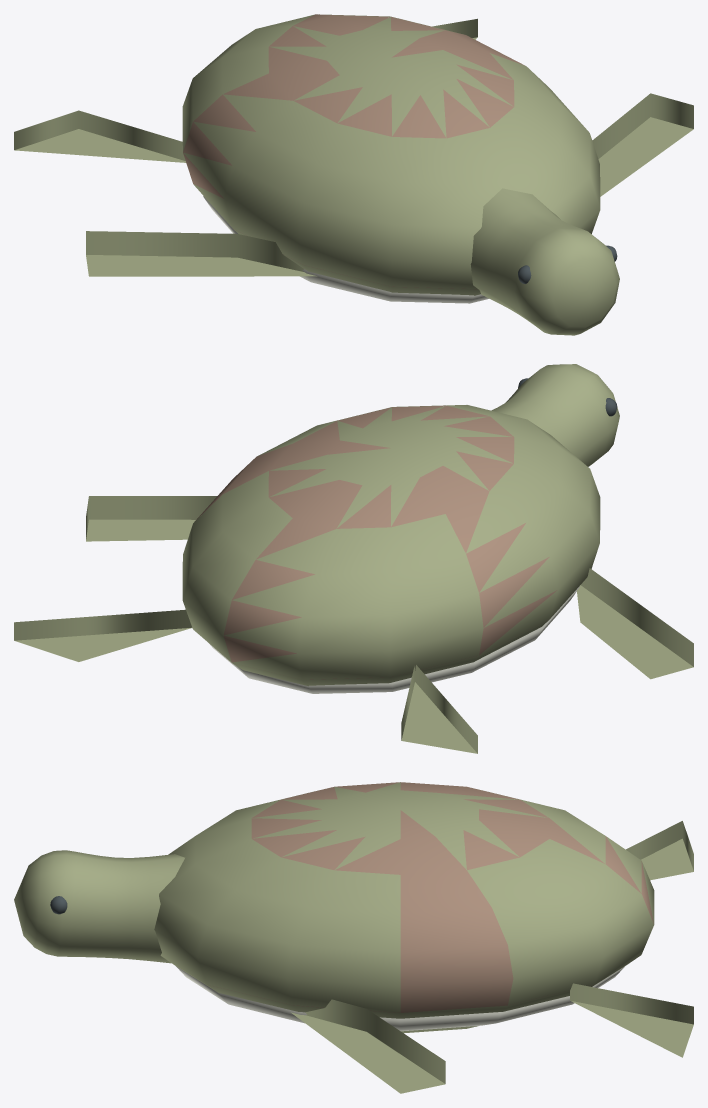
File: open-ocean-and-deep-sea-life-sea-turtle-resting-da191949__5882.glb
3 views of the same model, one above another, from view 1: azimuth 30°, elevation 25°; view 2: azimuth 150°, elevation 25°; view 3: azimuth 270°, elevation 25° (orthographic). The views are drawn at different scales.
Visible parts, largest first — view 1: sea-turtle-resting; view 2: sea-turtle-resting; view 3: sea-turtle-resting.
Part boxes in pixels (x1,y1,x2,y2): sea-turtle-resting: (14,14,693,335); sea-turtle-resting: (14,364,693,753); sea-turtle-resting: (14,782,693,1093).
Bounding box in the file's own units: 1.05 × 0.3337 × 1.05.
